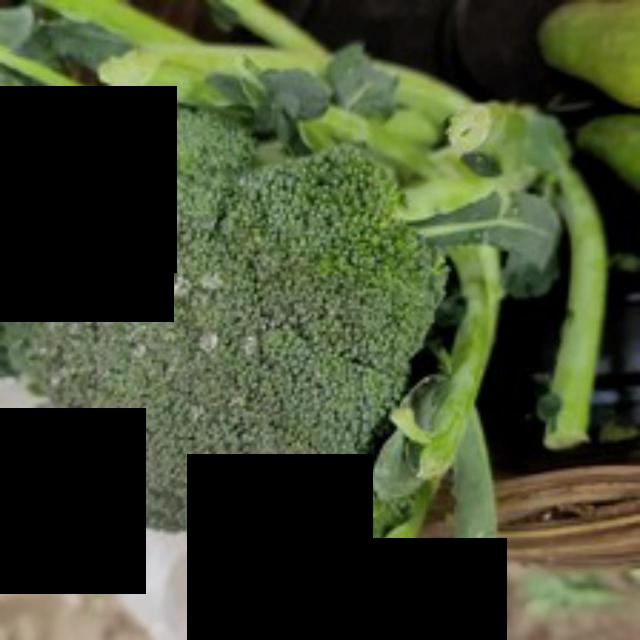broccoli: (58, 99, 456, 577)
